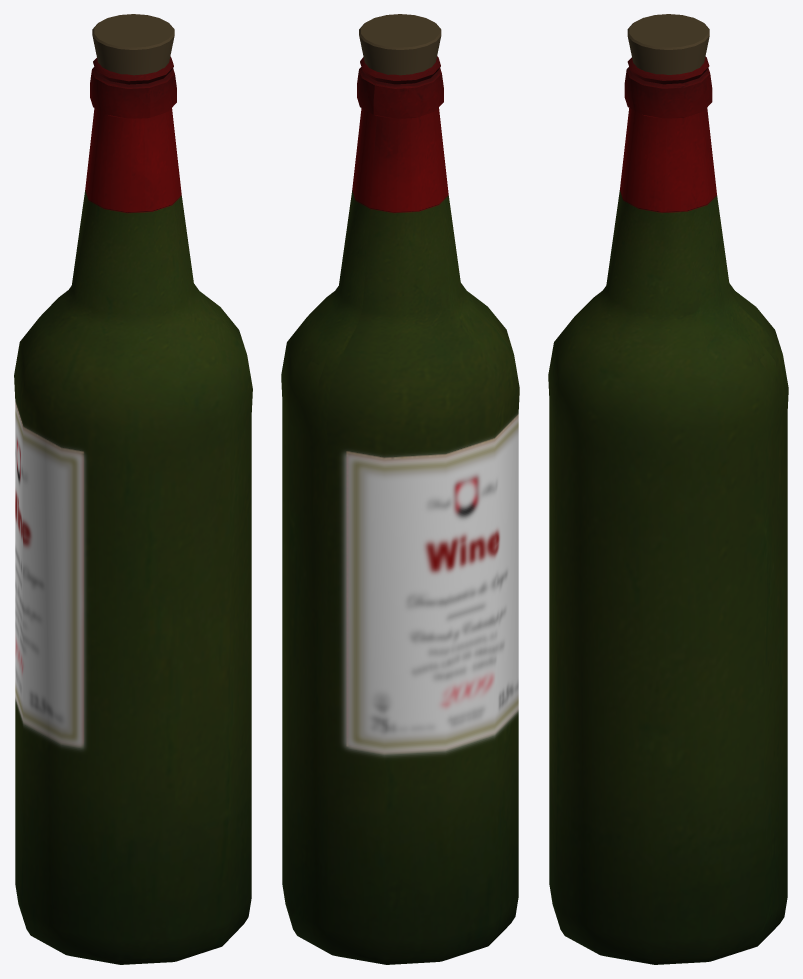
The model's file is Bottle 3.FBX.
3 views of the same model, side by side, from view 1: azimuth 30°, elevation 25°; view 2: azimuth 150°, elevation 25°; view 3: azimuth 270°, elevation 25° (orthographic).
Visible parts, largest first — view 1: Bottle 3; view 2: Bottle 3; view 3: Bottle 3.
Part boxes in pixels (left/top/right/bottom): Bottle 3: left=14, top=14, right=252, bottom=964; Bottle 3: left=281, top=14, right=519, bottom=964; Bottle 3: left=548, top=14, right=788, bottom=964.
Bounding box in the file's own units: 8.15 × 33.63 × 8.23.
1 material, 1 textured.
